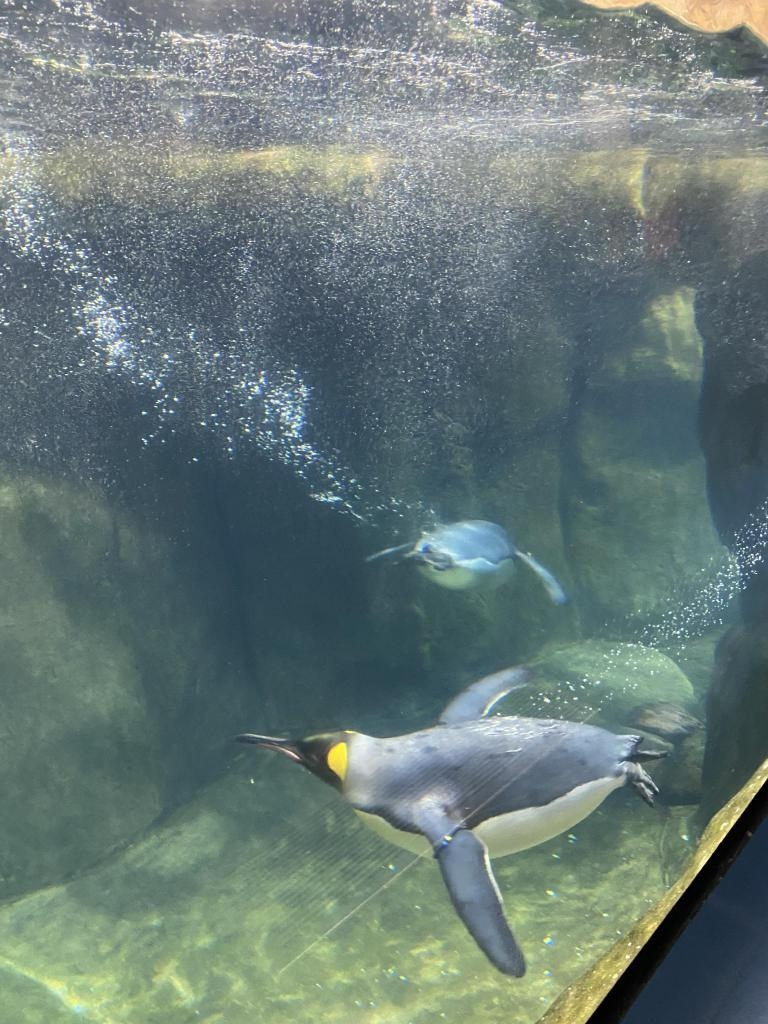penguin: (231, 666, 673, 978), (365, 519, 566, 615)
